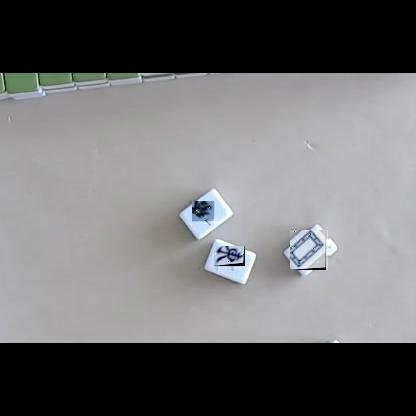1z: (214, 247, 245, 271)
5z: (291, 230, 331, 270)
6z: (193, 202, 218, 225)
